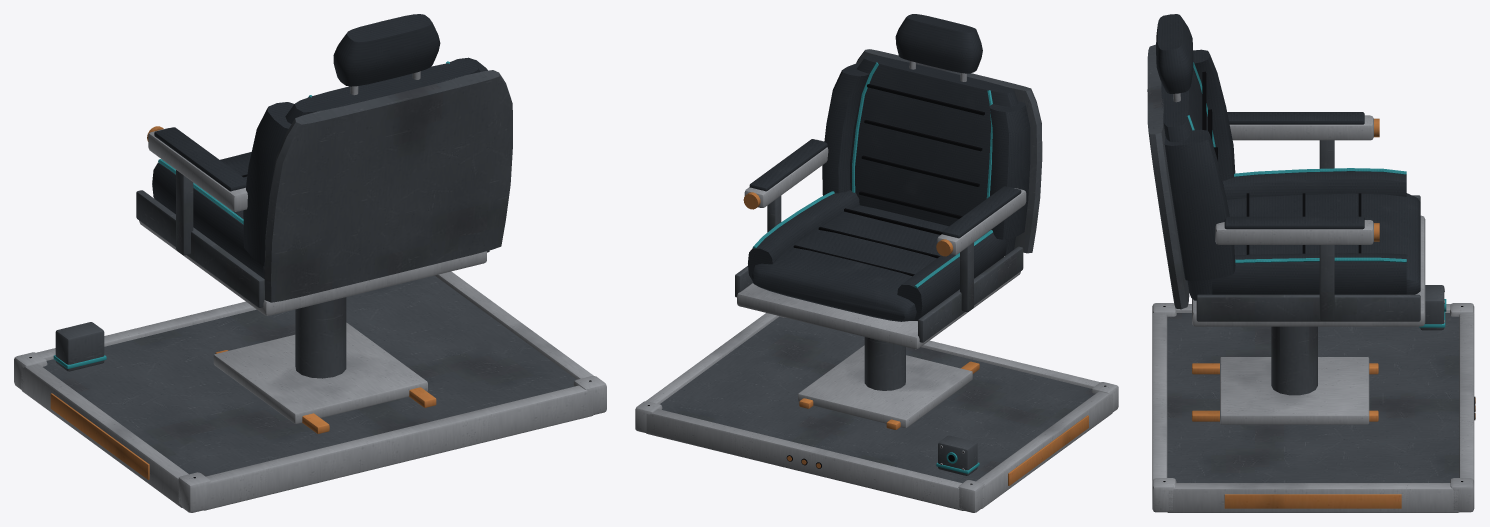
File: passenger_seat_3.glb
3 views of the same model, side by side, from view 1: azimuth 30°, elevation 25°; view 2: azimuth 150°, elevation 25°; view 3: azimuth 270°, elevation 25° (orthographic). The views are drawn at different scales.
Visible parts, largest first — view 1: Base, ShellFrame, Backrest, Cushion; view 2: Base, Backrest, ShellFrame, Cushion; view 3: Base, ShellFrame, Cushion, Backrest.
Part boxes in pixels (<box>): Base: <box>14,271,606,512</box>; ShellFrame: <box>136,70,512,423</box>; Backrest: <box>243,14,487,278</box>; Cushion: <box>152,152,263,278</box>; Base: <box>635,313,1118,512</box>; Backrest: <box>822,14,1030,255</box>; ShellFrame: <box>735,49,1042,428</box>; Cushion: <box>748,190,1006,321</box>; Base: <box>1152,285,1475,512</box>; ShellFrame: <box>1147,44,1425,424</box>; Cushion: <box>1212,168,1420,294</box>; Backrest: <box>1156,14,1235,300</box>.
Bounding box in the file's own units: 0.948 × 0.9239 × 0.7031.
Materials: 7 (5 with a texture image).
